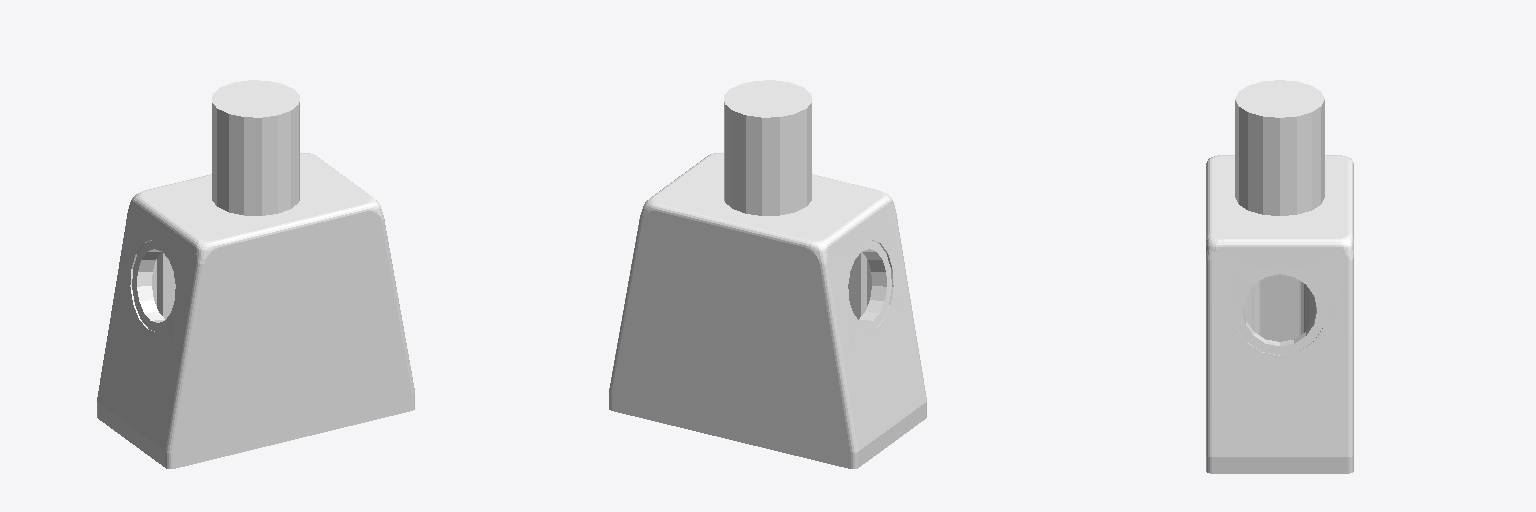
Rendered from Cuerpo.obj.
3 views of the same model, side by side, from view 1: azimuth 30°, elevation 25°; view 2: azimuth 150°, elevation 25°; view 3: azimuth 270°, elevation 25° (orthographic).
Parts seen in each view (by area): view 1: Part_8; view 2: Part_8; view 3: Part_8.
Part boxes in pixels (x1,y1,x2,y2): Part_8: (97,80,414,468); Part_8: (609,80,926,468); Part_8: (1206,80,1353,473).
Bounding box in the file's own units: 15.4 × 18.58 × 7.92.